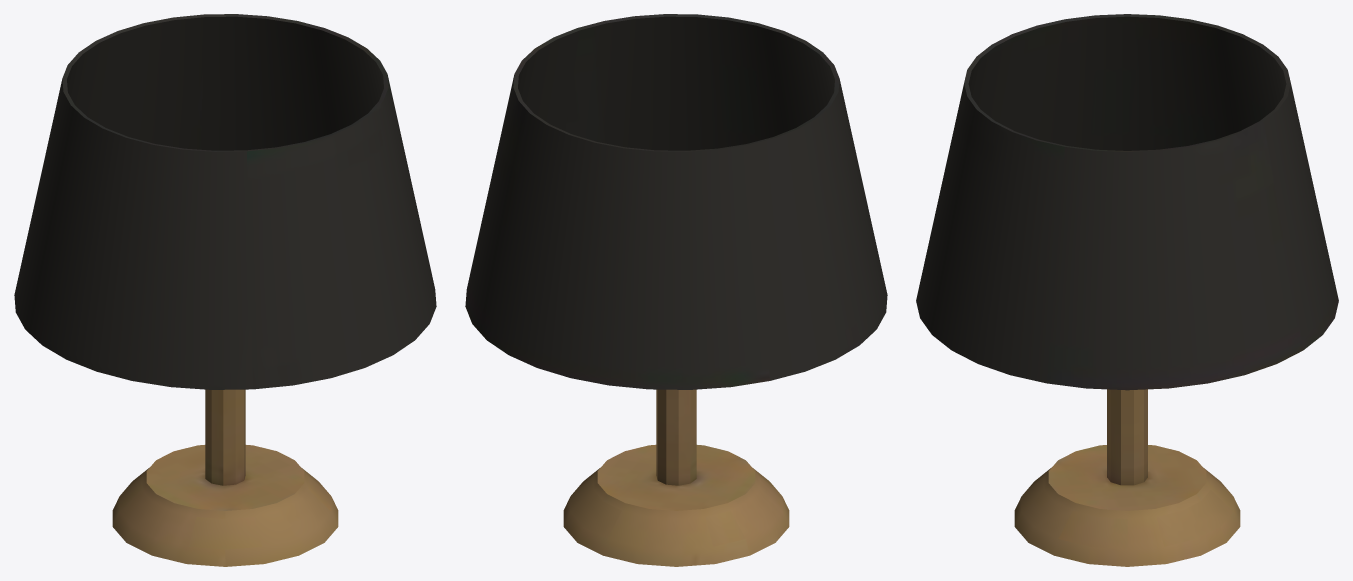
Rendered from table_lamp.glb.
The picture shows the model from 3 angles, left to right: view 1: azimuth 30°, elevation 25°; view 2: azimuth 150°, elevation 25°; view 3: azimuth 270°, elevation 25°; orthographic projection.
Parts seen in each view (by area): view 1: table_lamp; view 2: table_lamp; view 3: table_lamp.
Boxes of the visible parts, box(x1,y1,x2,y2) form: table_lamp: box(14, 14, 436, 566); table_lamp: box(465, 14, 887, 566); table_lamp: box(916, 14, 1338, 566).
Bounding box in the file's own units: 0.3696 × 0.42 × 0.3696.
1 material, 1 textured.
